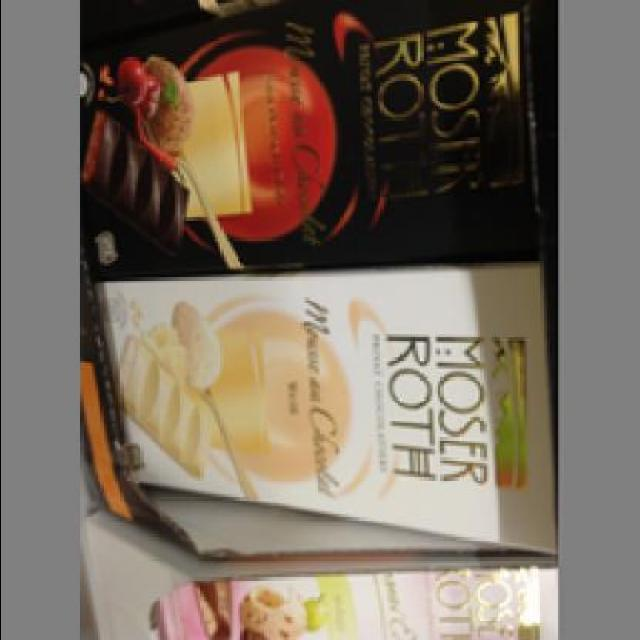Chocolate bar: (97, 252, 560, 550), (83, 3, 554, 266)
